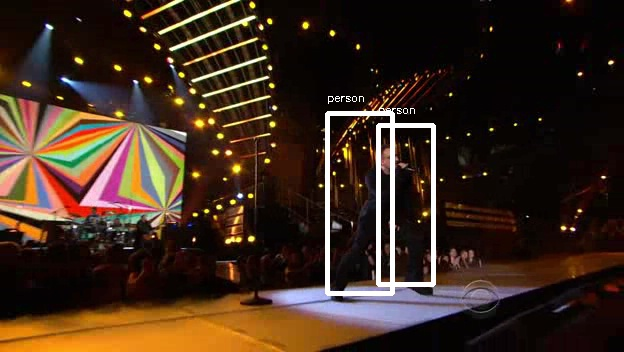person: (354, 144, 422, 252), (351, 144, 419, 252), (357, 144, 425, 252), (354, 141, 422, 249), (354, 147, 422, 255)
target_negative: (337, 252, 459, 305), (206, 227, 258, 327), (113, 313, 557, 322), (219, 215, 320, 251), (145, 274, 241, 309), (412, 276, 483, 300)
